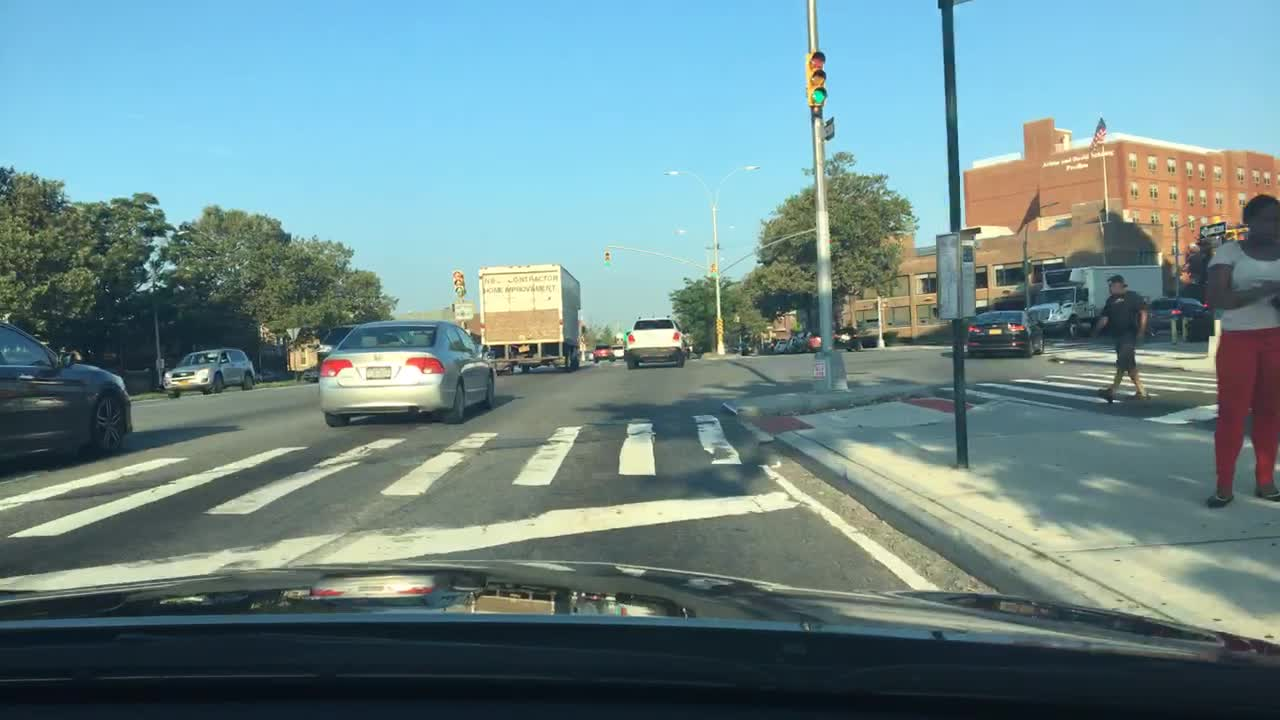car: (0, 321, 132, 469), (318, 322, 494, 426), (1022, 264, 1163, 338), (162, 348, 255, 397), (966, 310, 1044, 356), (625, 315, 688, 366), (1149, 296, 1206, 333), (318, 325, 351, 365), (832, 325, 862, 351), (786, 334, 807, 354), (807, 334, 826, 349), (302, 367, 318, 382), (729, 345, 752, 354), (610, 345, 625, 358), (772, 340, 786, 353), (589, 352, 593, 359)
person: (1206, 192, 1279, 505), (1087, 274, 1147, 402), (61, 343, 83, 365), (770, 336, 776, 351)
traffic light: (805, 49, 825, 105), (453, 305, 475, 321), (453, 270, 464, 295), (711, 263, 717, 277), (605, 249, 609, 264)
traffic sign: (1197, 222, 1225, 238), (823, 114, 834, 142), (285, 326, 301, 338)
truck: (478, 262, 582, 374)
